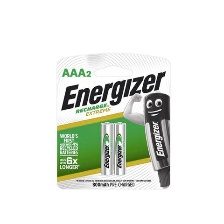battery: (110, 120, 127, 178), (98, 120, 115, 177)
